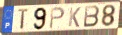8: (101, 4, 117, 28)
9: (33, 7, 49, 31)
B: (83, 5, 101, 29)
K: (68, 7, 82, 28)
P: (49, 6, 66, 30)
T: (17, 7, 31, 31)
